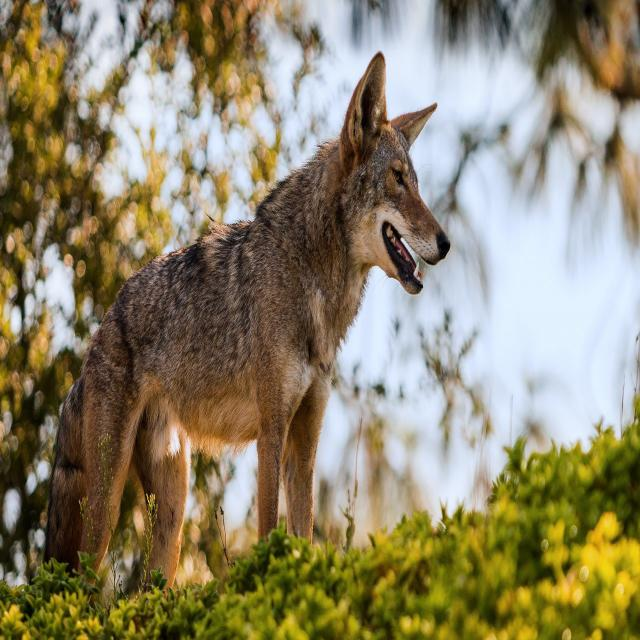Coyote: (60, 42, 453, 616)
